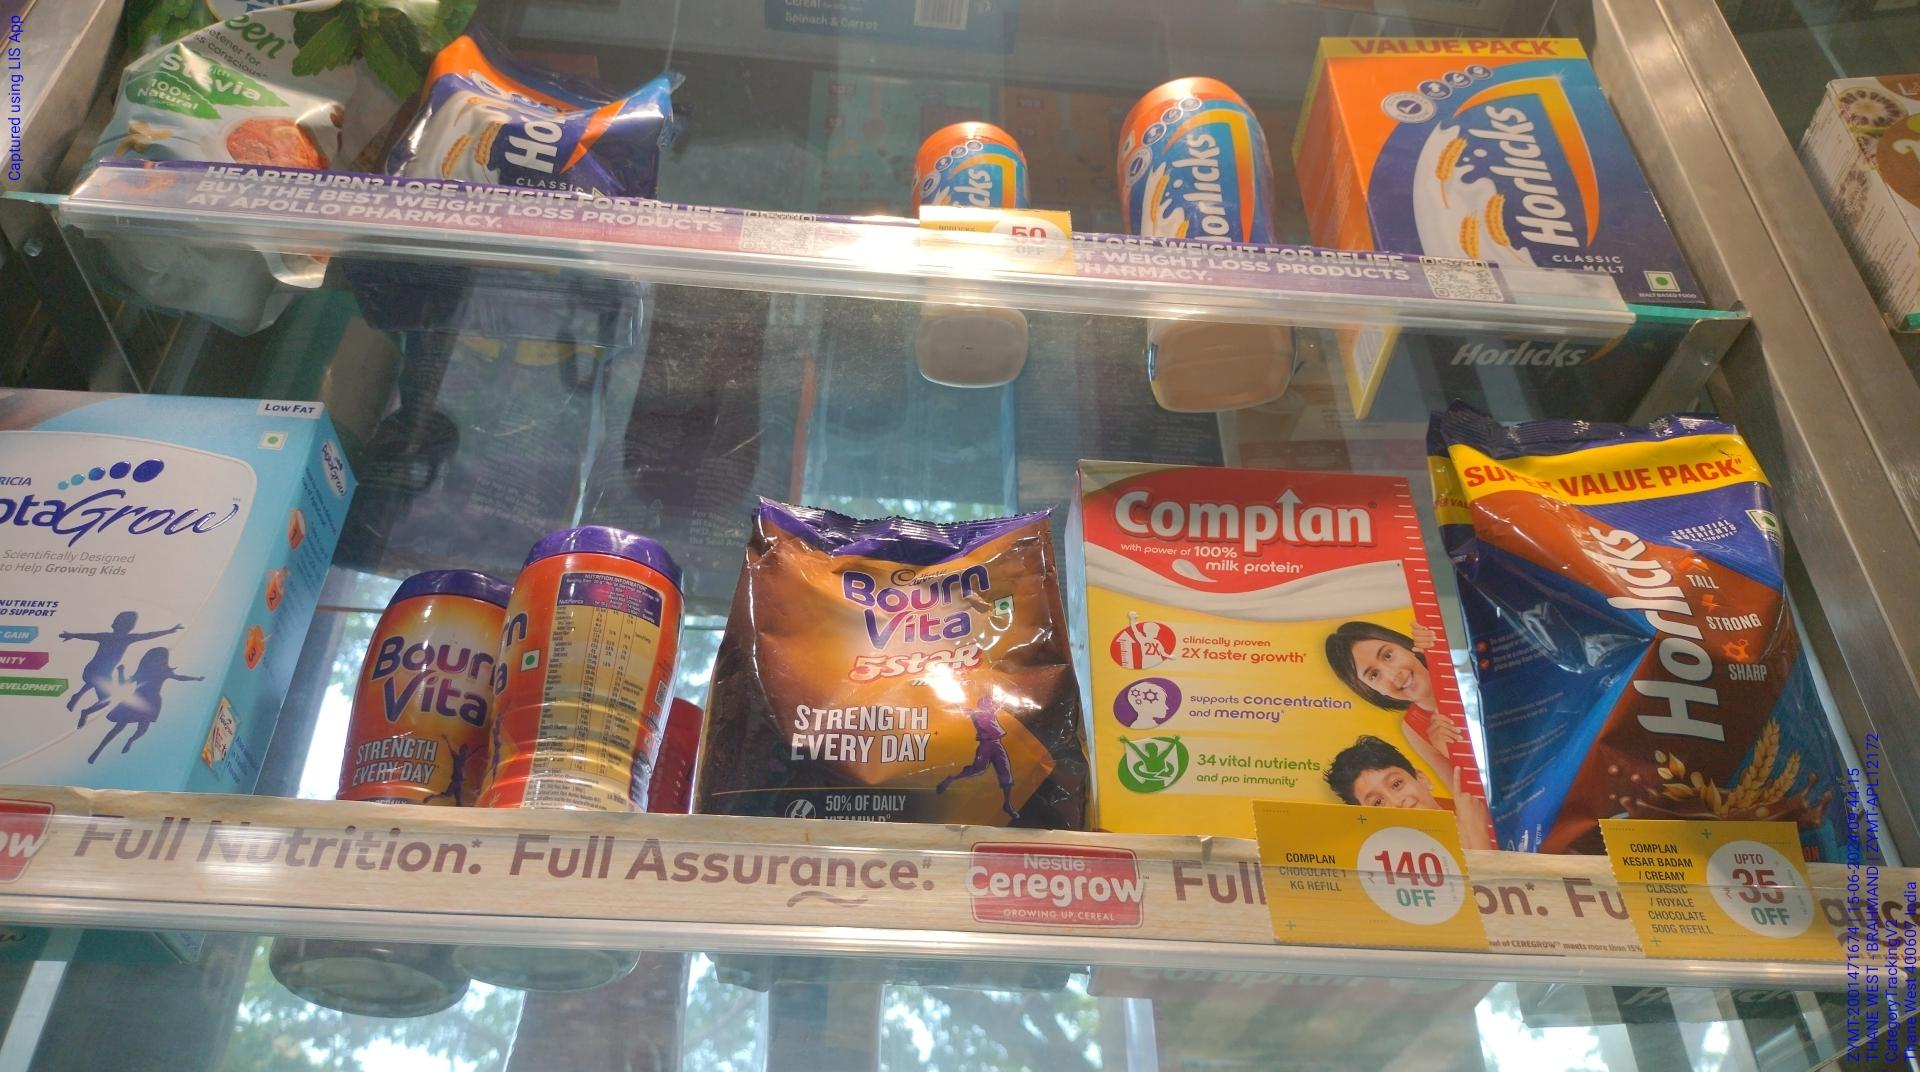BOURN_VITA_FIVE_STAR_MAGIC_500_G_POUCH: (745, 500, 1069, 818)
COMPLAN_KESAR_BADAM_500_GMS_PACK: (1081, 472, 1431, 827)
HORLICK_CHOCOLATE_750_G_POUCH: (1451, 410, 1804, 806)
